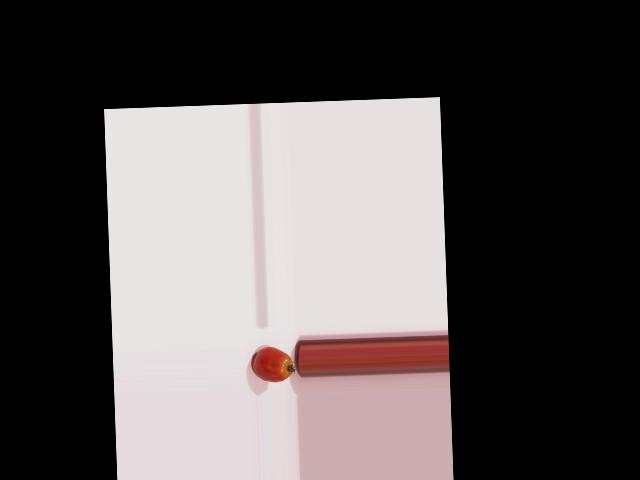tomato: (253, 345, 293, 382)
